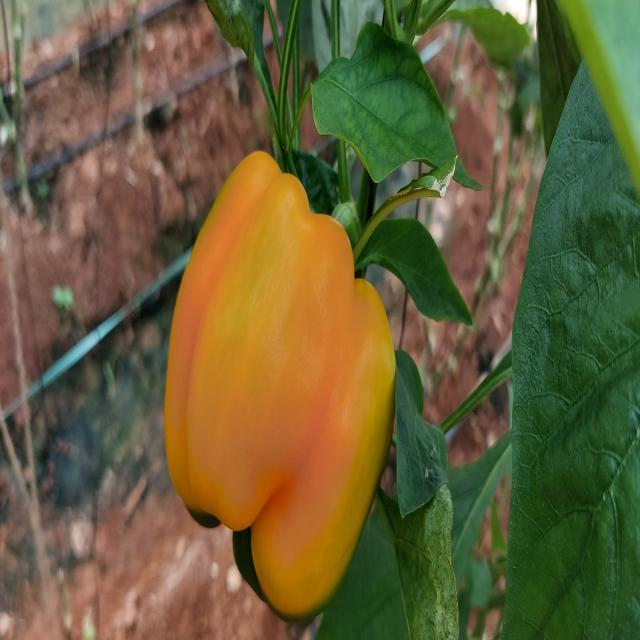Yellow-Ready-to-Harvest: (159, 138, 401, 630)
